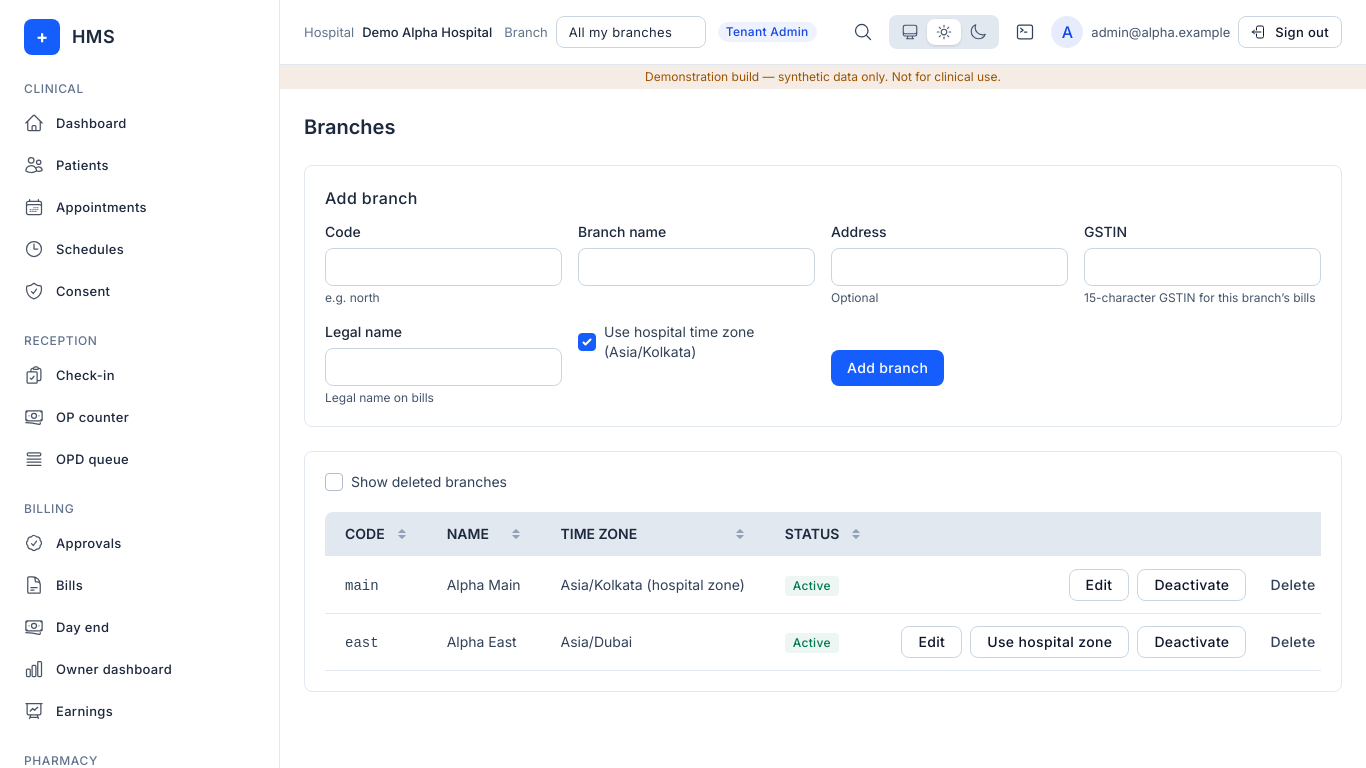
Test: Branches page: time zone › shows inherited vs overridden zones and confirms future bookings before inheriting
Check: the row with test id "branch-row" shows "Asia/Kolkata (hospital zone)", box [560,576,745,593]
Click the button with aria-label "Use the hospital time zone at Alpha East". click: (1050, 642)
box: [970,626,1129,658]
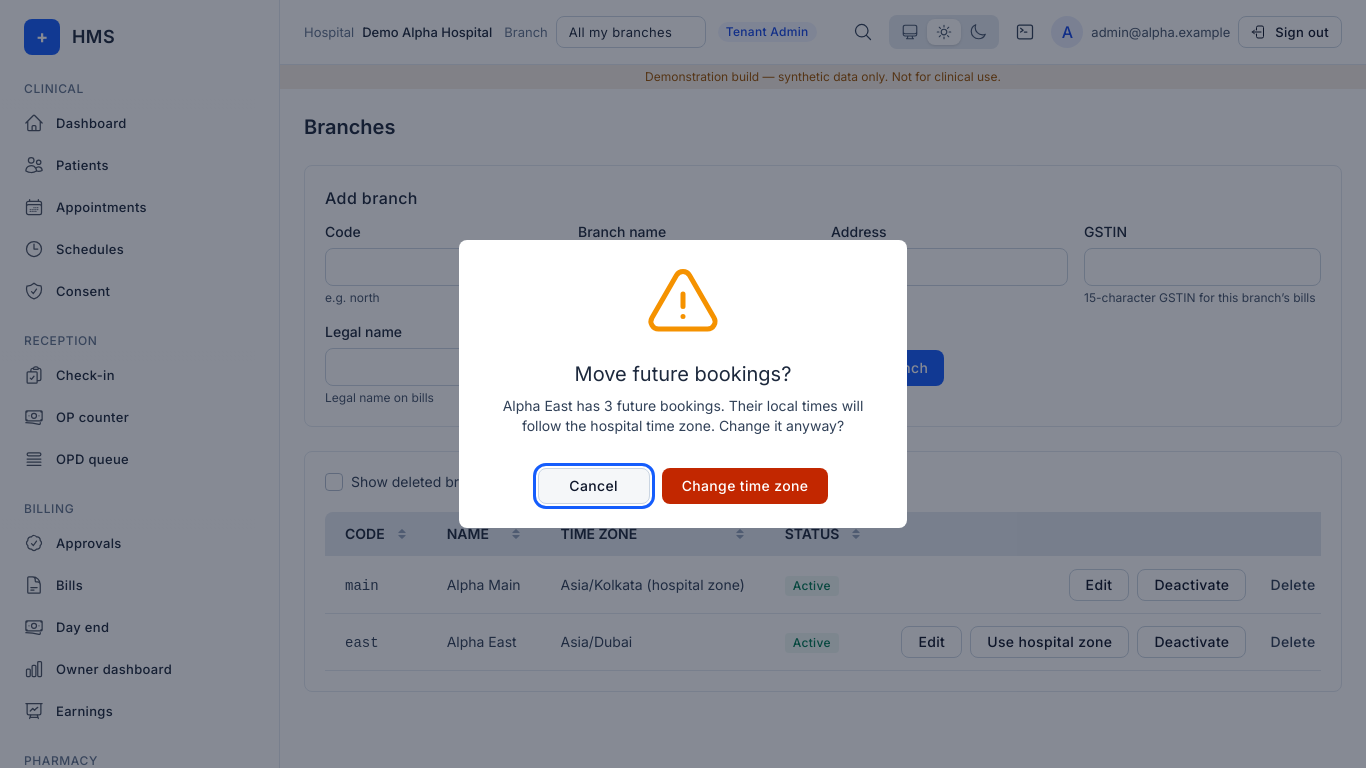
Check: the dialog shows "3 future bookings"
Click the button "Change time zone". click: (745, 486)
box: [662,468,828,504]
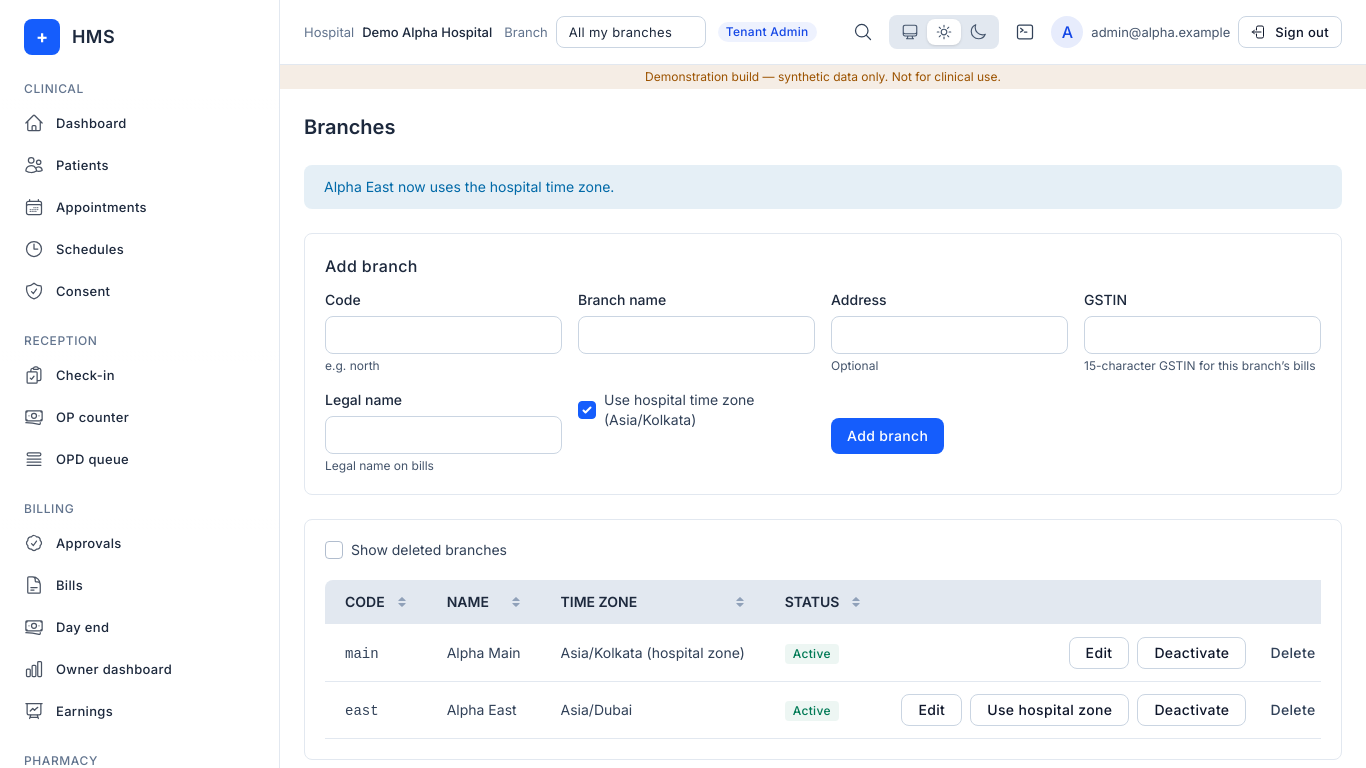
Check: the text "Alpha East now uses the hospital time zone." is shown, box [304,165,1342,209]
Check: the dialog is gone
